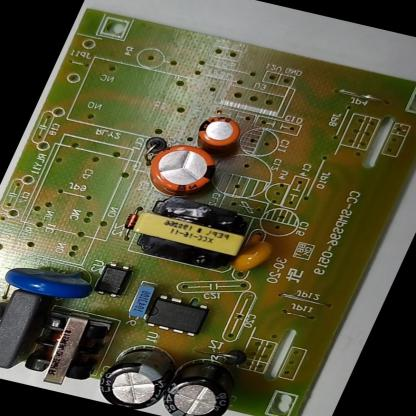Cap1: (136, 135, 231, 203)
Cap2: (182, 109, 253, 159)
Cap3: (86, 334, 190, 415)
Cap4: (149, 345, 253, 416)
MOSFET: (136, 290, 217, 342)
Mov: (0, 252, 109, 309)
Resistor: (0, 291, 13, 329)
Transformer: (118, 188, 263, 278), (13, 304, 121, 394)
